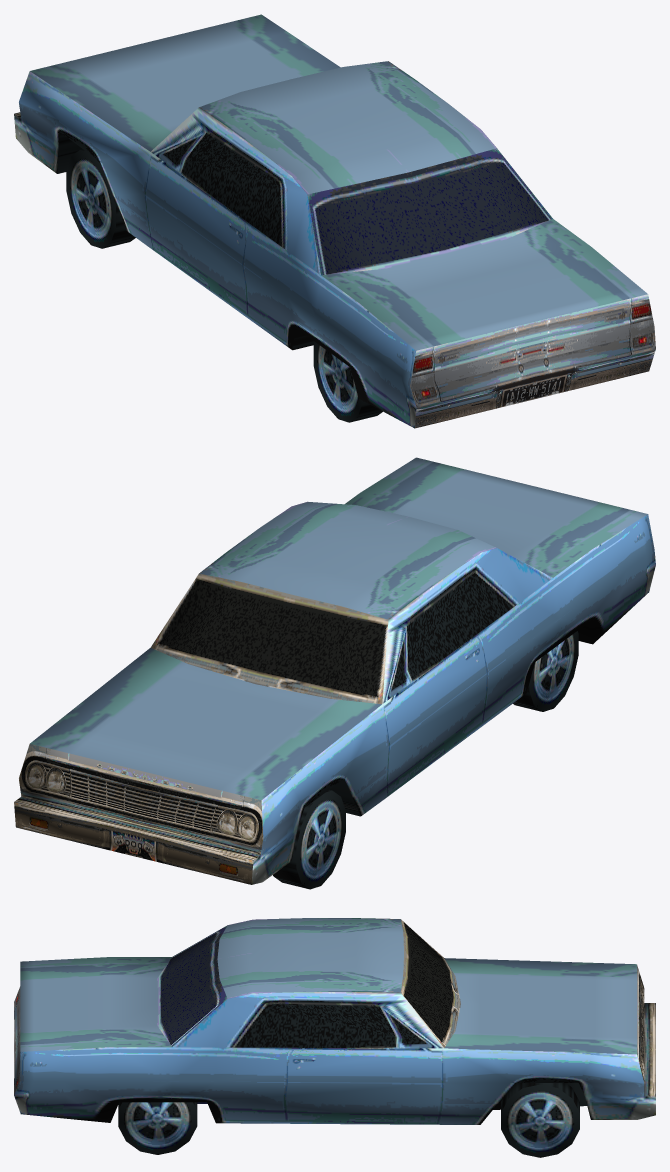
File: malibu-car.glb
The picture shows the model from 3 angles, top to bottom: view 1: azimuth 30°, elevation 25°; view 2: azimuth 150°, elevation 25°; view 3: azimuth 270°, elevation 25°; orthographic projection. The views are drawn at different scales.
Parts seen in each view (by area): view 1: Plane, Circle, Circle.001; view 2: Plane, Circle, Circle.001; view 3: Plane, Circle, Circle.001.
Boxes of the visible parts, <box> form: Plane: <box>14,14,655,428</box>; Circle: <box>66,149,135,248</box>; Circle.001: <box>313,342,382,422</box>; Plane: <box>14,457,655,884</box>; Circle: <box>273,789,345,889</box>; Circle.001: <box>513,631,578,711</box>; Plane: <box>14,918,655,1124</box>; Circle: <box>501,1083,579,1157</box>; Circle.001: <box>118,1102,197,1154</box>.
Bounding box in the file's own units: 1.42 × 1.12 × 4.05.
5 materials, 5 textured.
